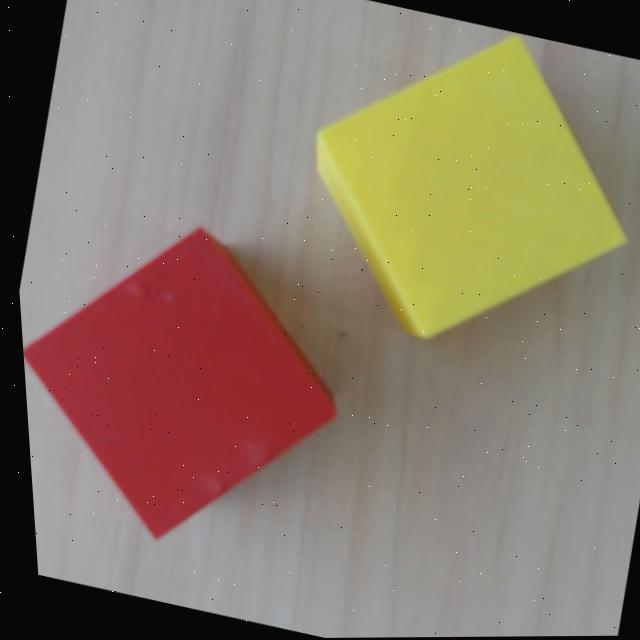Kubus-Kuning-505050: (300, 29, 627, 351)
Kubus-Merah-505050: (20, 219, 341, 542)
